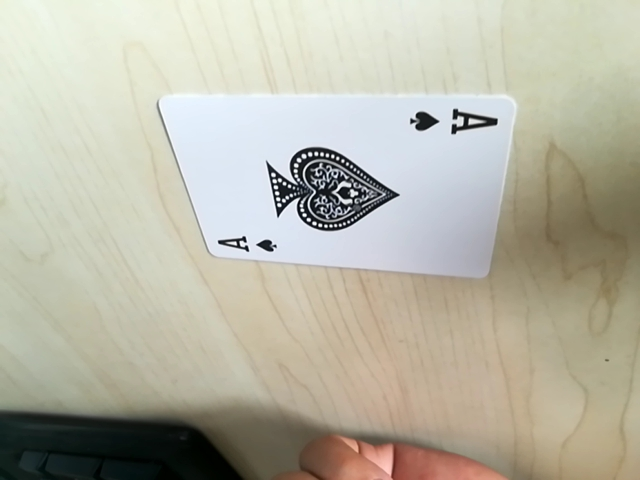ht a: (403, 100, 500, 141), (210, 232, 280, 259)
